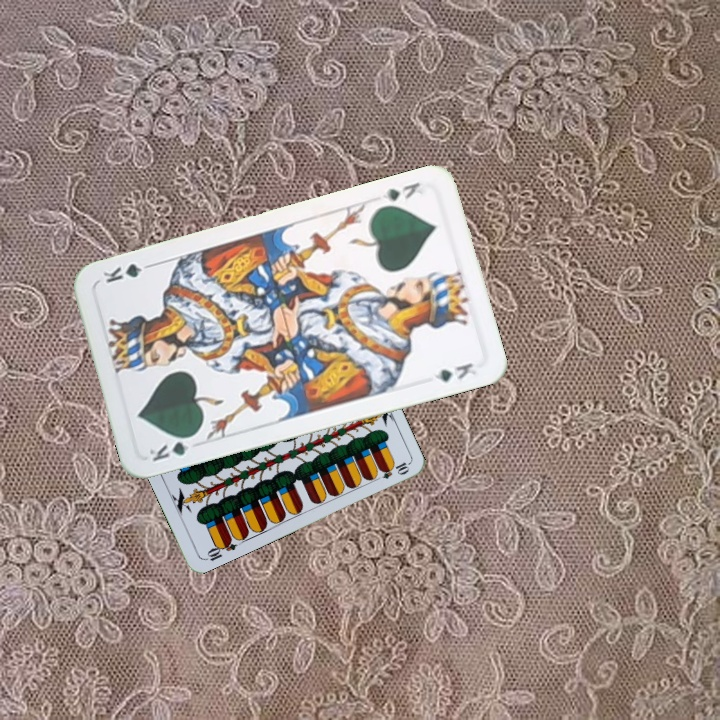E10: (201, 534, 239, 564)
GK: (145, 430, 200, 464), (378, 178, 426, 204)
